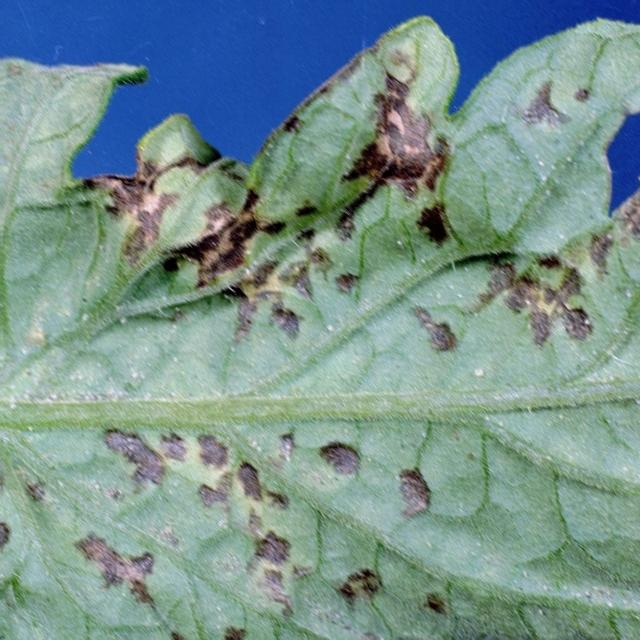Tomato leaf bacterial spot: (0, 32, 640, 640)
